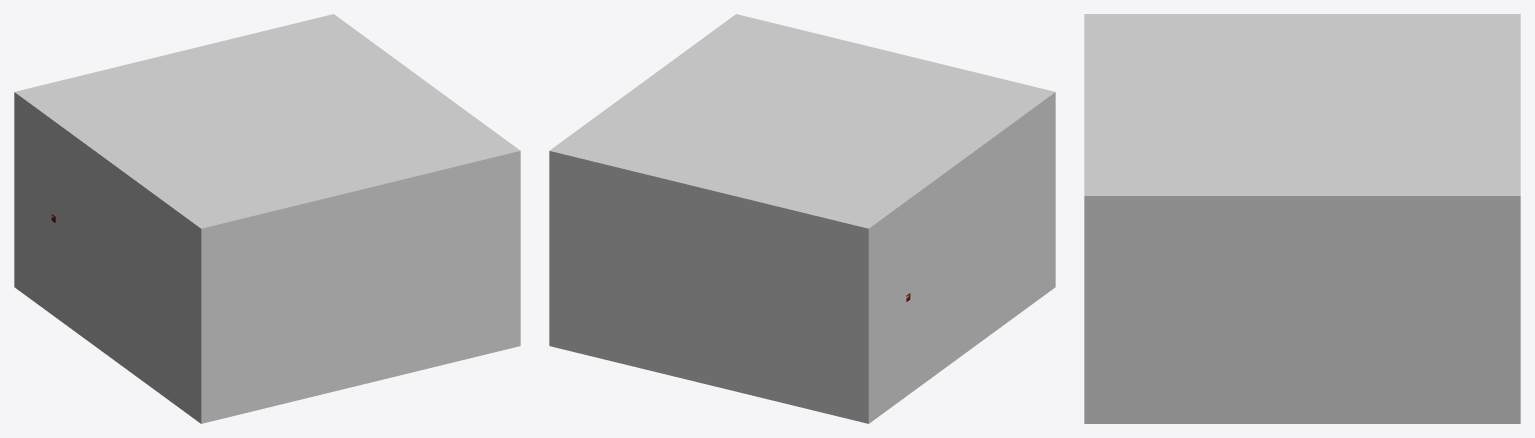
Rendered from room6.glb.
3 renders of one model, left to right at view 1: azimuth 30°, elevation 25°; view 2: azimuth 150°, elevation 25°; view 3: azimuth 270°, elevation 25°, orthographic. The views are drawn at different scales.
Parts seen in each view (by area): view 1: Wall; view 2: Wall; view 3: Wall.
Boxes of the visible parts, bbox=[...] form: Wall: bbox=[14, 14, 520, 423]; Wall: bbox=[549, 14, 1055, 423]; Wall: bbox=[1084, 14, 1520, 423].
Bounding box in the file's own units: 3.48 × 2.03 × 3.52.
Materials: 20 (2 with a texture image).
